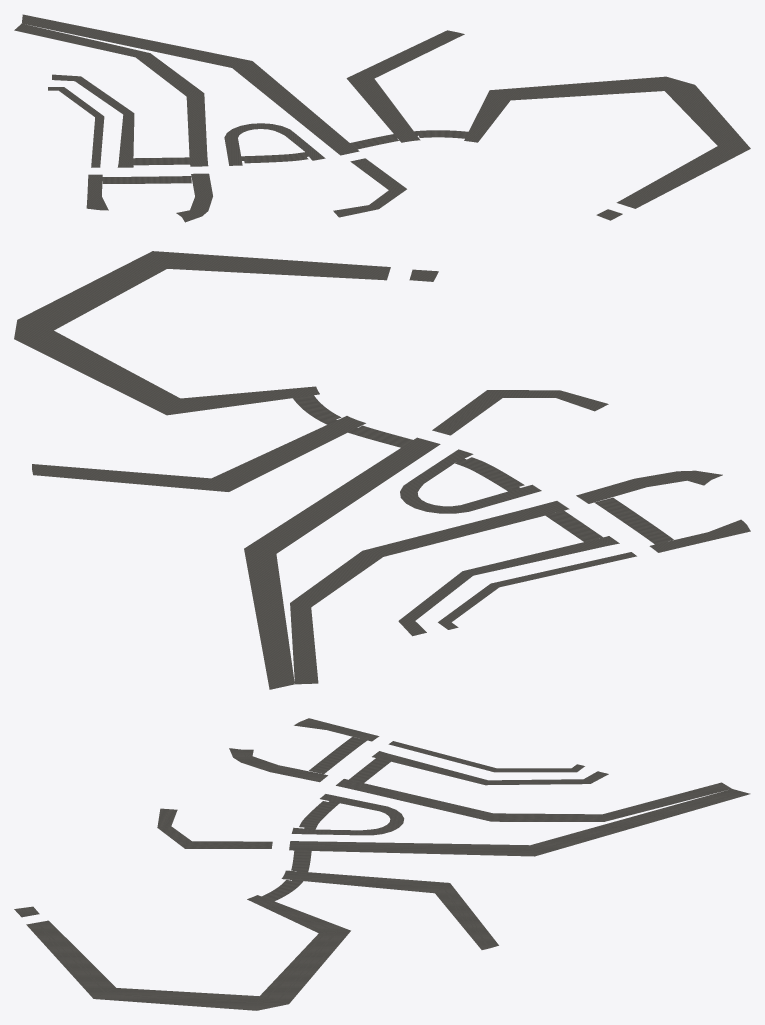
Rendered from chu_rd.FBX.
3 renders of one model, top to bottom at view 1: azimuth 30°, elevation 25°; view 2: azimuth 150°, elevation 25°; view 3: azimuth 270°, elevation 25°, orthographic. The views are drawn at different scales.
Visible parts, largest first — view 1: rd01_301; view 2: rd01_301; view 3: rd01_301.
Part boxes in pixels (x1,y1,x2,y2): rd01_301: (14,14,750,222); rd01_301: (14,251,750,689); rd01_301: (14,718,750,1010).
Size of the model in its own units: 795 by 0.00027 by 846.
